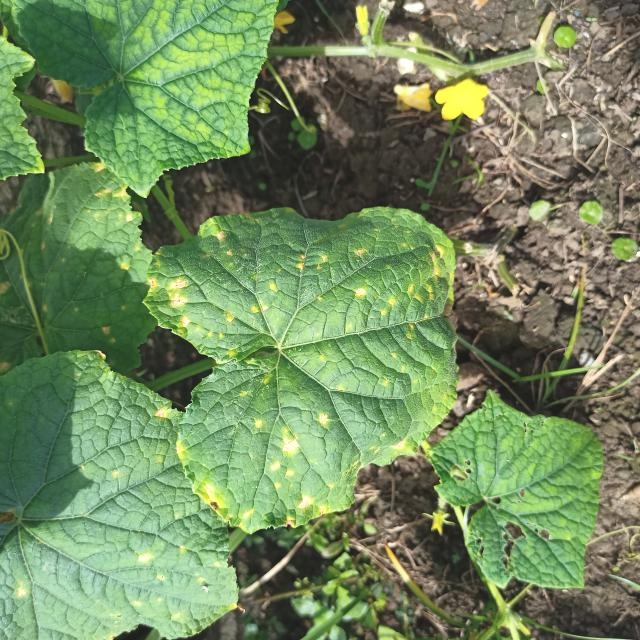disease_cucumber: (160, 213, 457, 527), (0, 175, 144, 355), (114, 542, 223, 623)
